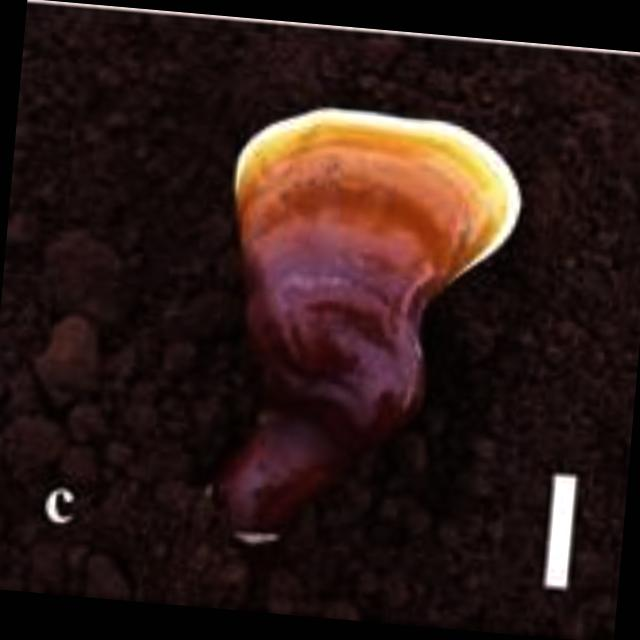ganoderma: (220, 97, 535, 321)
